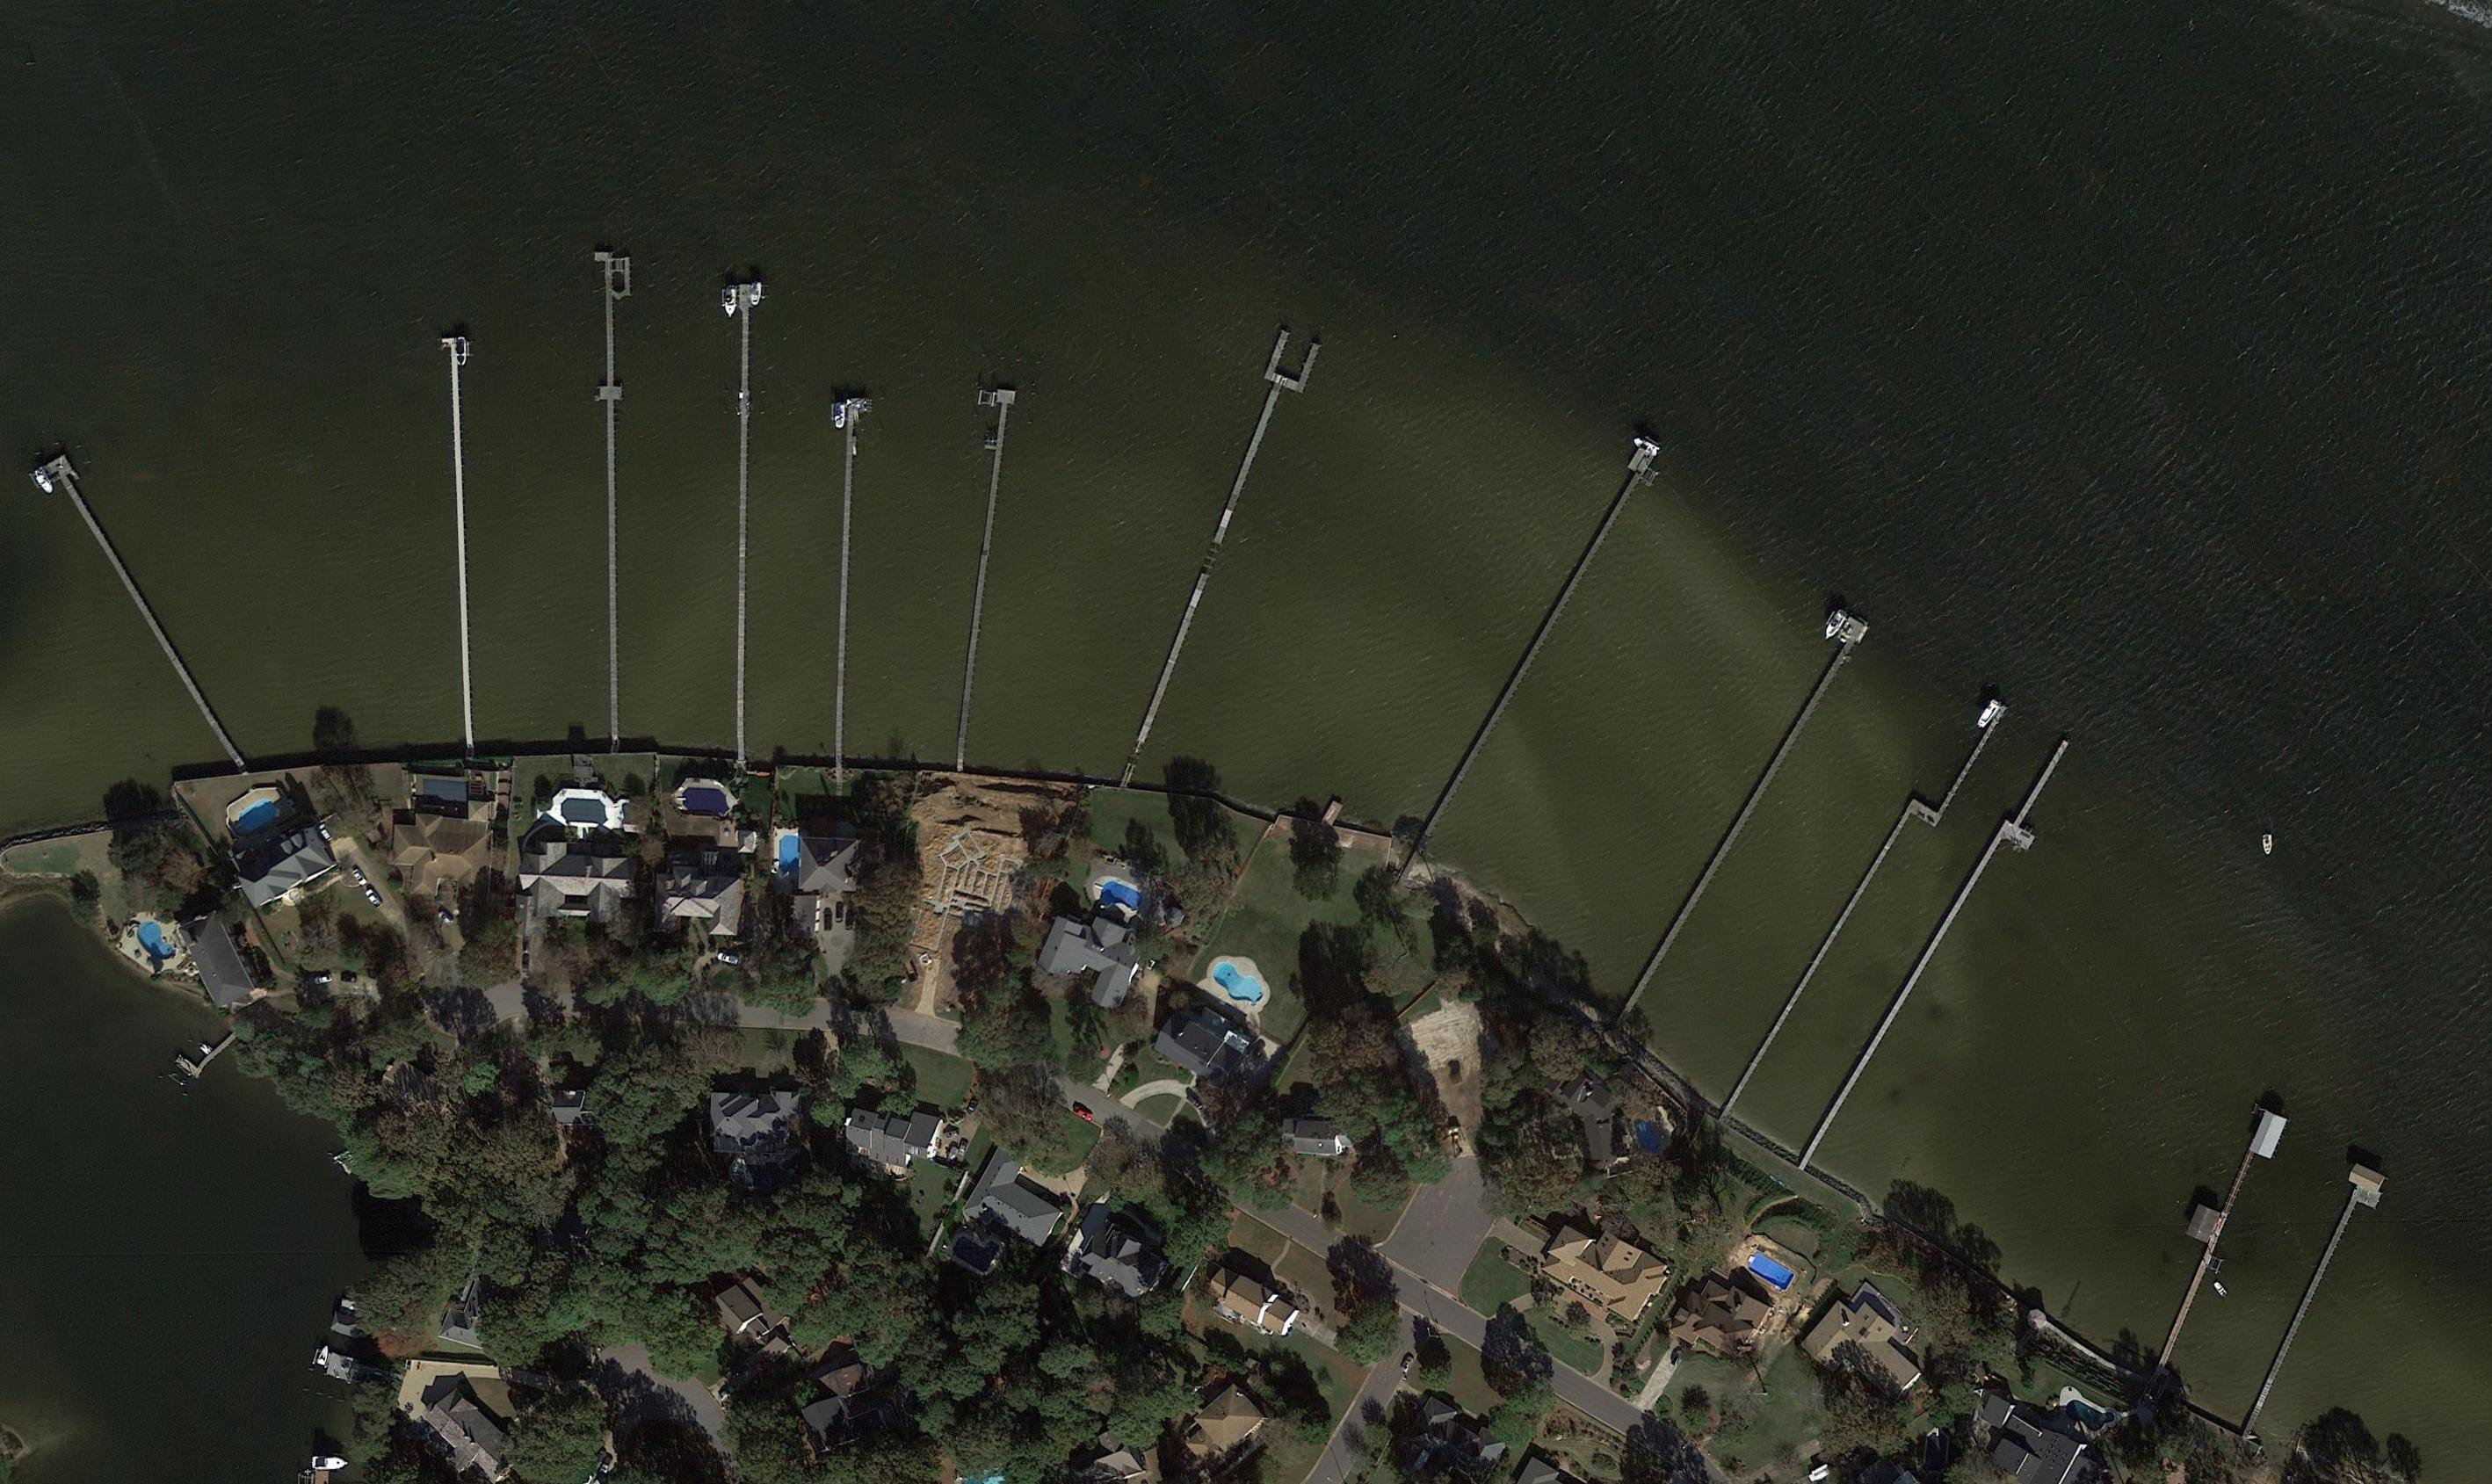harbor: (1713, 678, 2015, 1130), (1792, 724, 2082, 1176), (1612, 600, 1878, 1020), (1412, 430, 1671, 841), (1112, 328, 1332, 764), (26, 452, 250, 780), (2141, 1098, 2293, 1385), (2237, 1155, 2393, 1435), (935, 381, 1025, 749), (592, 250, 641, 742), (435, 336, 490, 745), (721, 282, 771, 738), (822, 398, 871, 758), (173, 1017, 243, 1082), (327, 1351, 400, 1391)
ship: (1822, 607, 1849, 641), (1975, 699, 2000, 729), (1632, 434, 1663, 458), (32, 468, 56, 495), (312, 1456, 350, 1470), (2210, 1278, 2229, 1299), (833, 403, 846, 431), (724, 288, 736, 317), (317, 1343, 332, 1367), (750, 286, 761, 308), (458, 337, 466, 366), (2263, 835, 2273, 854)
